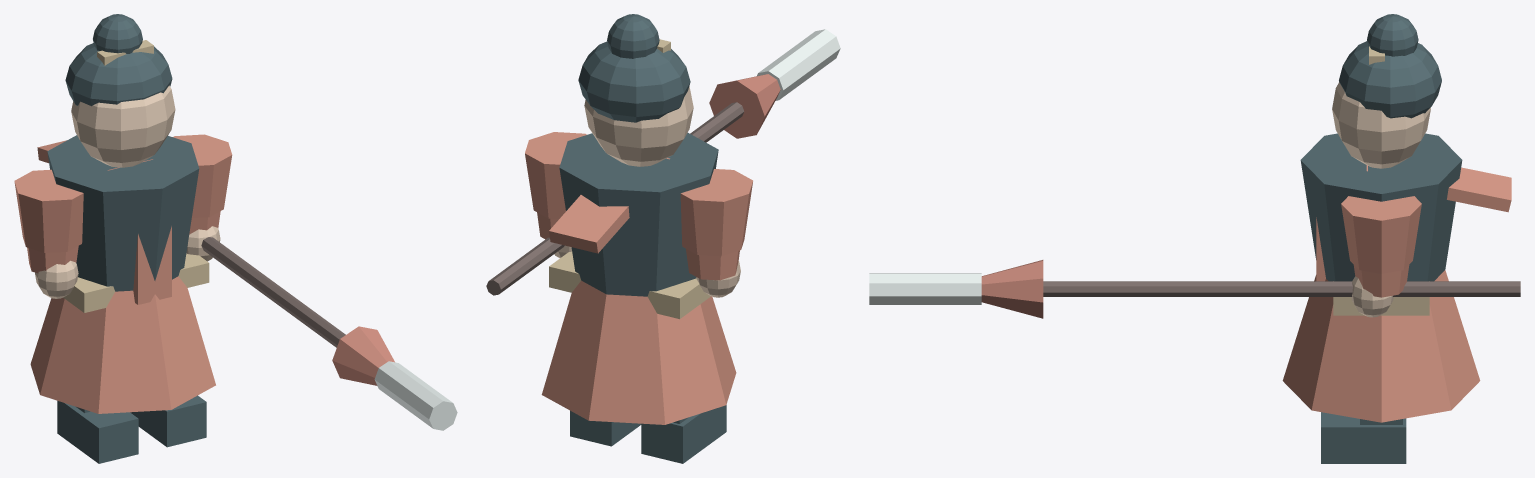
The model's file is spear.glb.
3 views of the same model, side by side, from view 1: azimuth 30°, elevation 25°; view 2: azimuth 150°, elevation 25°; view 3: azimuth 270°, elevation 25° (orthographic). The views are drawn at different scales.
Parts seen in each view (by area): view 1: 下摆.001, 衣襟.001, Head.001, Hair.001, 衣袖.002, 靴.002, 枪刃, 枪杆, 衣袖.003, 枪缨, 靴.003, 腰带.001 (+5 smaller); view 2: 下摆.001, 衣襟.001, Hair.001, 衣袖.002, Head.001, 靴.002, 衣袖.003, Scarf.001, 枪缨, 枪刃, 腰带.001, 枪杆 (+4 smaller); view 3: 下摆.001, 衣襟.001, 枪杆, Hair.001, 衣袖.003, Head.001, 靴.003, 枪刃, 枪缨, Scarf.001, 发髻.001, 腰带.001 (+2 smaller).
Boxes of the visible parts, x1,y1,x2,y2 form: 下摆.001: (30, 276, 215, 413); 衣襟.001: (47, 135, 199, 291); Head.001: (71, 85, 175, 167); Hair.001: (65, 43, 172, 106); 衣袖.002: (14, 169, 83, 252); 靴.002: (57, 401, 138, 463); 枪刃: (374, 361, 457, 430); 枪杆: (201, 237, 345, 347); 衣袖.003: (173, 134, 232, 217); 枪缨: (332, 326, 394, 385); 靴.003: (130, 395, 206, 447); 腰带.001: (63, 253, 209, 312); 下摆.001: (541, 280, 736, 424); 衣襟.001: (559, 133, 718, 296); Hair.001: (578, 41, 690, 122); 衣袖.002: (680, 169, 752, 256); Head.001: (584, 86, 693, 166); 靴.002: (641, 405, 726, 463); 衣袖.003: (525, 132, 586, 219); Scarf.001: (549, 158, 669, 253); 枪缨: (709, 74, 780, 138); 枪刃: (757, 29, 840, 100); 腰带.001: (549, 251, 710, 319); 枪杆: (486, 102, 744, 295); 下摆.001: (1282, 270, 1480, 422); 衣襟.001: (1300, 133, 1462, 281); 枪杆: (1043, 281, 1520, 296); Hair.001: (1339, 41, 1441, 118); 衣袖.003: (1341, 196, 1421, 273); Head.001: (1332, 82, 1430, 168); 靴.003: (1321, 412, 1406, 463); 枪刃: (869, 273, 981, 304); 枪缨: (981, 260, 1043, 318); Scarf.001: (1366, 165, 1511, 212); 发髻.001: (1367, 14, 1418, 56); 腰带.001: (1333, 297, 1429, 315).
Bounding box in the file's own units: 1.11 × 2.07 × 2.9.
